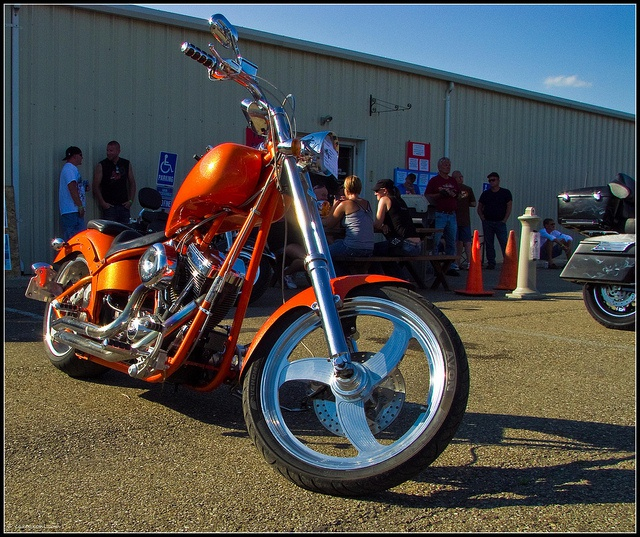non-vehicle: (24, 13, 468, 497), (556, 185, 635, 328)
